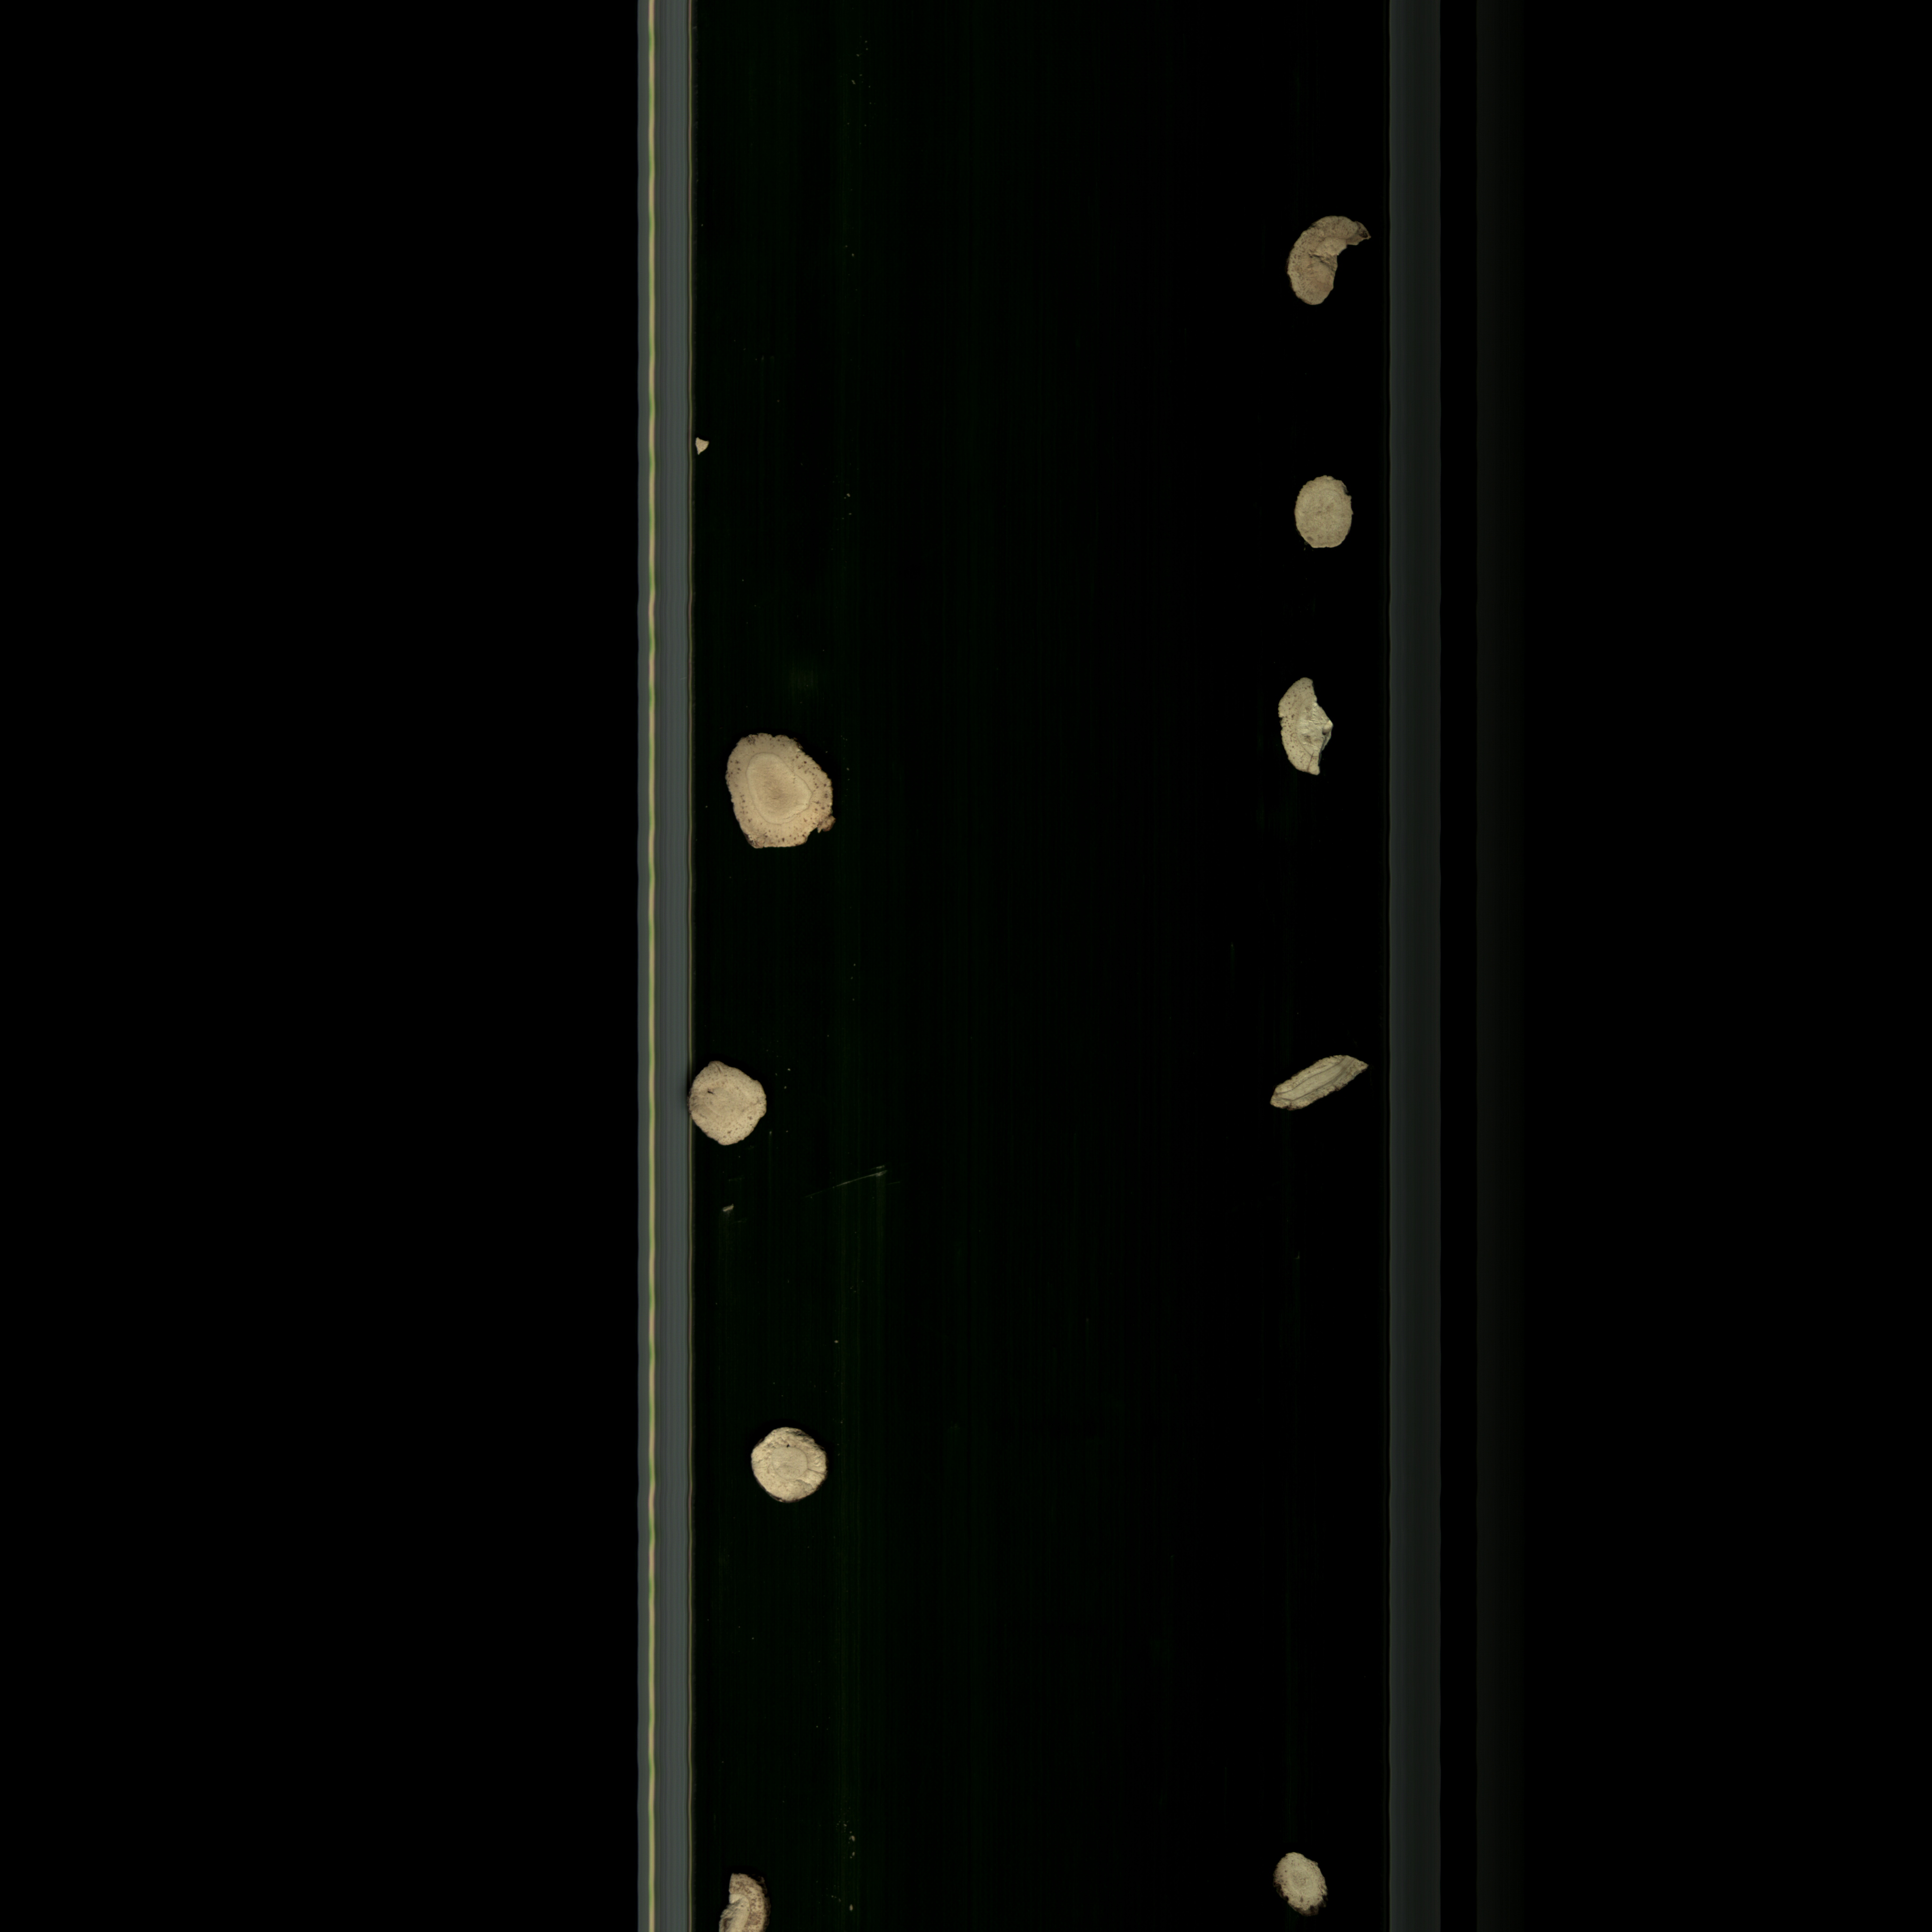debris: (1277, 674, 1345, 791), (1261, 1051, 1376, 1118), (1290, 472, 1361, 557)
dreg: (692, 426, 711, 456)
hole: (685, 1056, 770, 1159)
moldy: (715, 727, 855, 855), (1270, 212, 1384, 311), (1261, 1835, 1345, 1914), (709, 1865, 782, 1932)
